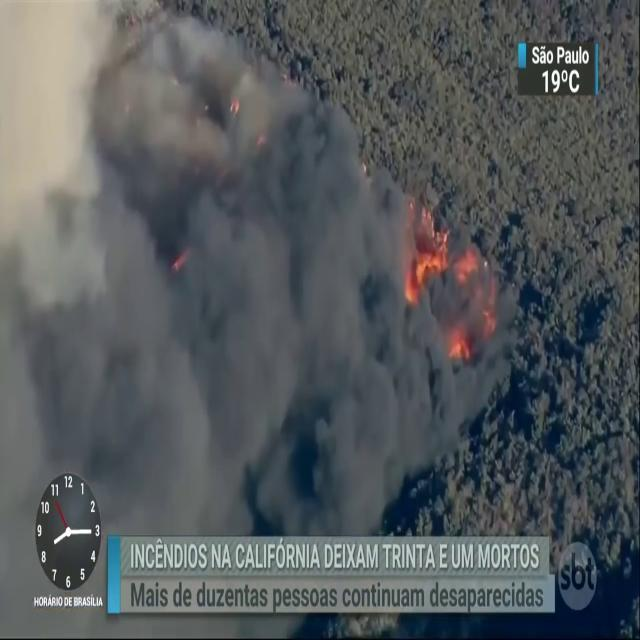Fire: (394, 174, 496, 380), (156, 215, 205, 297), (228, 55, 242, 137)
Smoke: (0, 0, 423, 640), (394, 272, 513, 454)
